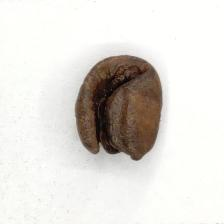NG: (82, 63, 140, 162)
